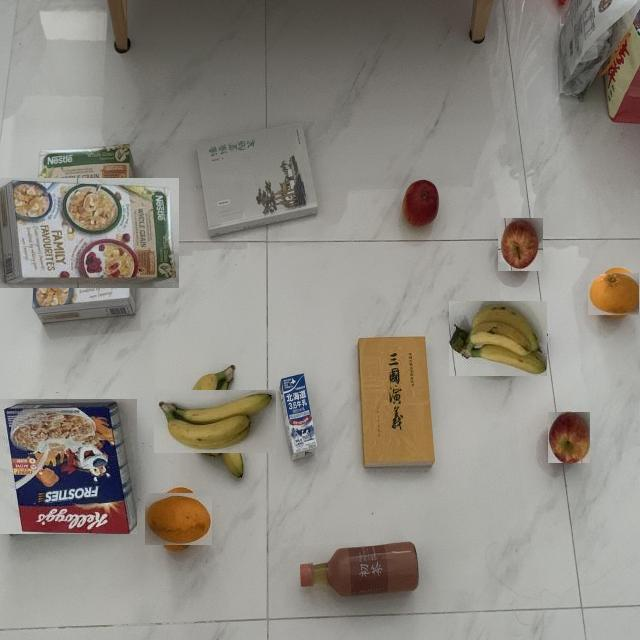Apple: (498, 217, 543, 271), (547, 412, 590, 463), (399, 180, 441, 228)
Banana: (154, 389, 276, 453), (449, 300, 547, 376)
Book: (191, 119, 322, 241), (354, 335, 438, 471)
Cerealbox: (0, 178, 179, 288), (0, 398, 137, 534)
Orange: (144, 493, 212, 545), (589, 272, 640, 315)
